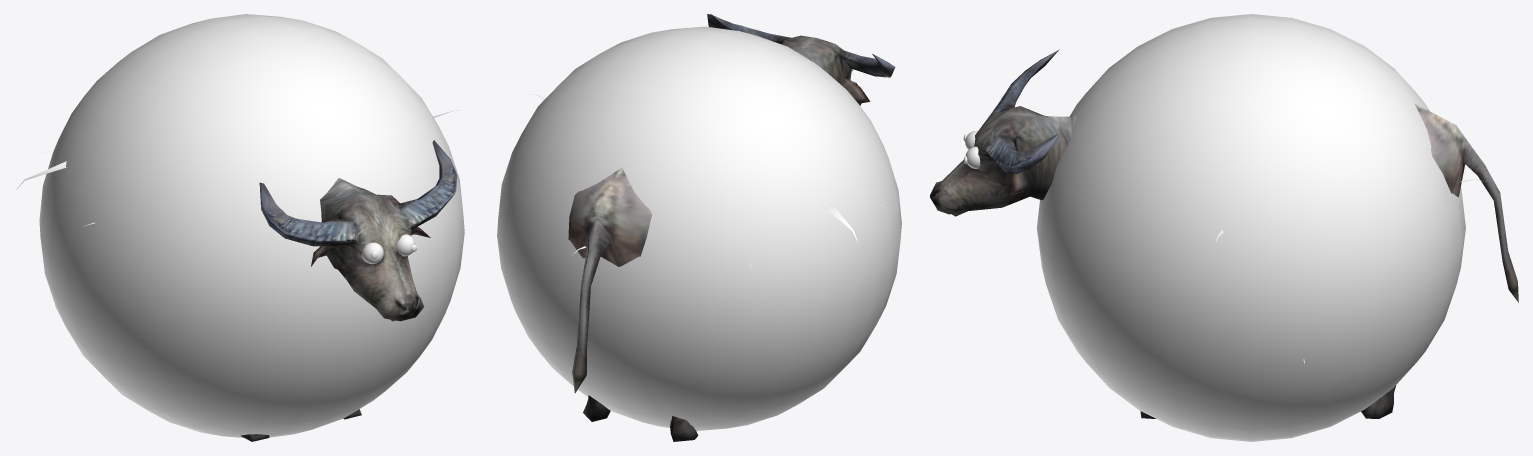
File: toro.glb
The picture shows the model from 3 angles, left to right: view 1: azimuth 30°, elevation 25°; view 2: azimuth 150°, elevation 25°; view 3: azimuth 270°, elevation 25°; orthographic projection. The views are drawn at different scales.
Visible parts, largest first — view 1: Sphere, Objects; view 2: Sphere, Objects; view 3: Sphere, Objects.
Boxes of the visible parts, <box> form: Sphere: <box>39,14,464,437</box>; Objects: <box>240,140,457,441</box>; Sphere: <box>497,26,901,430</box>; Objects: <box>568,14,895,441</box>; Sphere: <box>1037,14,1465,441</box>; Objects: <box>930,49,1518,418</box>.
Size of the model in its own units: 2.18 by 2 by 2.74.
Materials: 5 (1 with a texture image).
